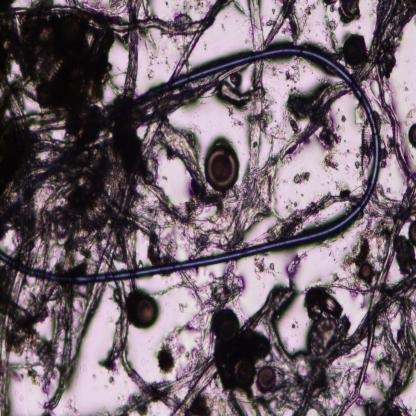Background material: (0, 43, 137, 268), (237, 284, 346, 416), (319, 1, 343, 48), (322, 117, 341, 171), (155, 340, 177, 373), (287, 92, 311, 119), (252, 255, 277, 278), (292, 168, 309, 186), (285, 70, 301, 82), (146, 68, 156, 80)
Cellulose filter fibre: (339, 178, 416, 414), (246, 82, 349, 228), (97, 94, 173, 274), (44, 283, 105, 410), (8, 1, 201, 38), (171, 264, 244, 356), (229, 61, 264, 249), (0, 270, 42, 412), (124, 356, 219, 414), (358, 0, 416, 80), (374, 63, 413, 181), (259, 188, 349, 237), (173, 1, 227, 78), (122, 0, 141, 98), (262, 2, 297, 50), (246, 0, 263, 52)
Diatom: (205, 144, 238, 191), (34, 44, 67, 82), (360, 111, 380, 171), (342, 35, 369, 70), (214, 309, 240, 341), (230, 357, 255, 390), (134, 298, 158, 330), (338, 0, 365, 24), (258, 367, 278, 392), (407, 123, 416, 148), (359, 264, 374, 279)
Microfibre: (0, 43, 384, 287)
